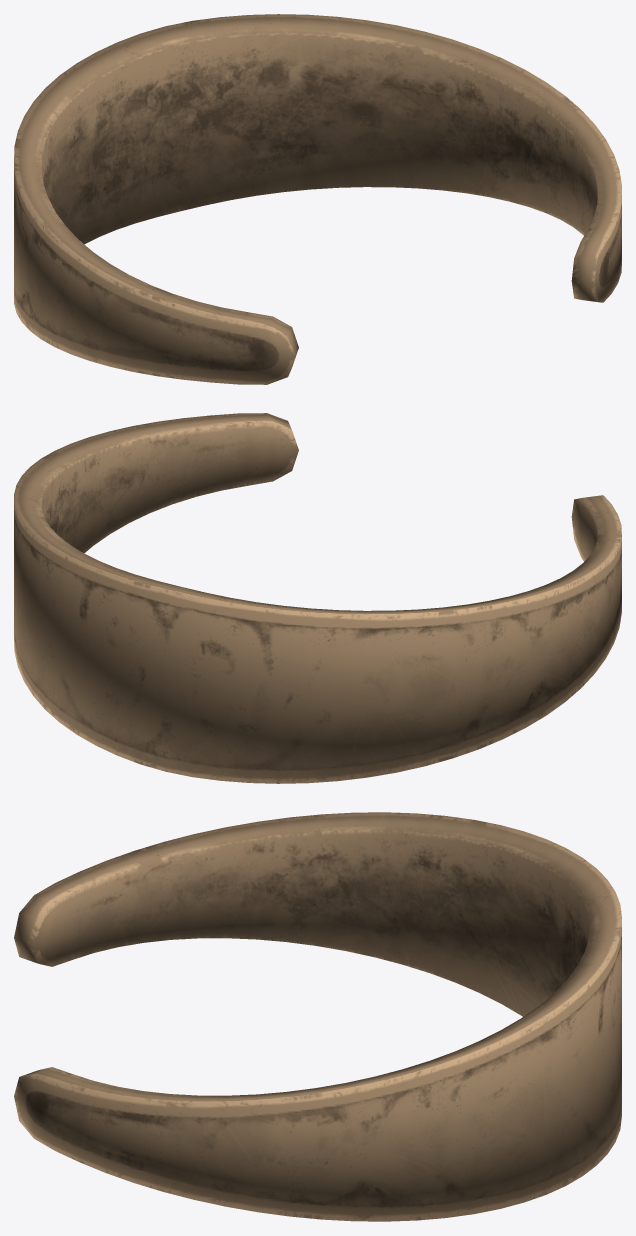
File: bracelet.fbx
The picture shows the model from 3 angles, top to bottom: view 1: azimuth 30°, elevation 25°; view 2: azimuth 150°, elevation 25°; view 3: azimuth 270°, elevation 25°; orthographic projection. The views are drawn at different scales.
Parts seen in each view (by area): view 1: Cylinder_LP; view 2: Cylinder_LP; view 3: Cylinder_LP.
Part boxes in pixels (<box>): Cylinder_LP: <box>14,14,621,384</box>; Cylinder_LP: <box>14,413,621,783</box>; Cylinder_LP: <box>14,812,621,1221</box>.
Size of the model in its own units: 6.65 by 7.26 by 2.4.
